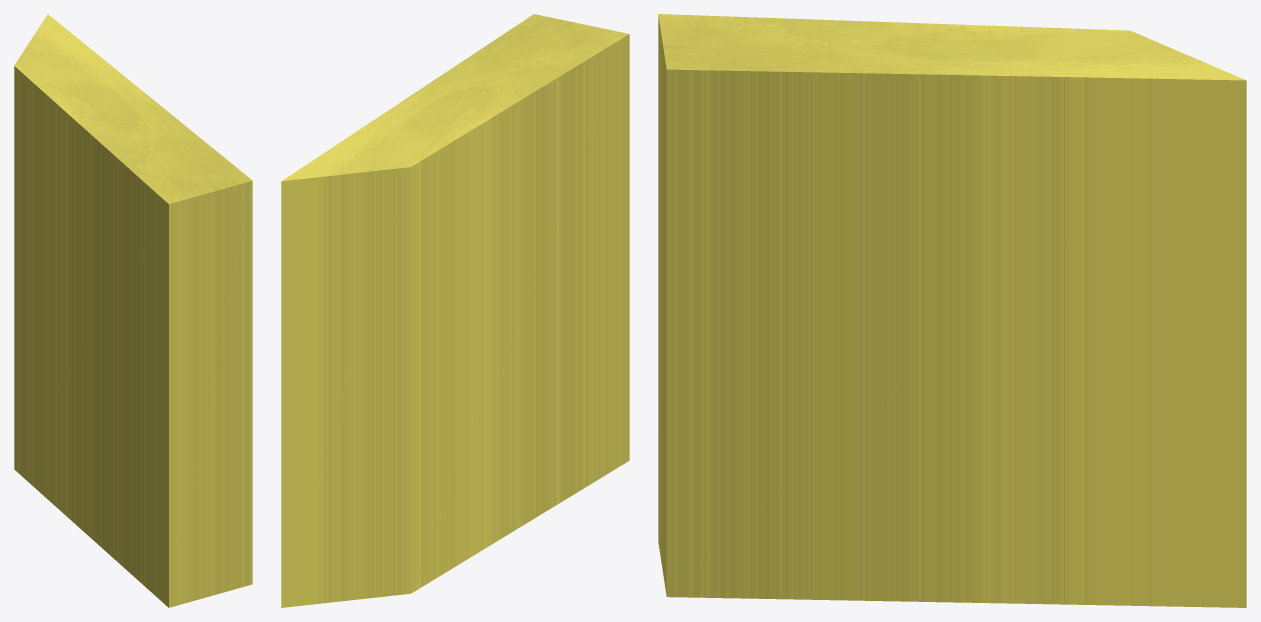
Rendered from jaune3.FBX.
3 renders of one model, left to right at view 1: azimuth 30°, elevation 25°; view 2: azimuth 150°, elevation 25°; view 3: azimuth 270°, elevation 25°, orthographic. The views are drawn at different scales.
Visible parts, largest first — view 1: Ligne035; view 2: Ligne035; view 3: Ligne035.
Boxes of the visible parts, left/top/right/bottom form: Ligne035: left=14, top=14, right=252, bottom=607; Ligne035: left=281, top=14, right=629, bottom=607; Ligne035: left=658, top=14, right=1246, bottom=607.
Size of the model in its own units: 3.73 by 13.79 by 13.95.
1 material, 1 textured.
